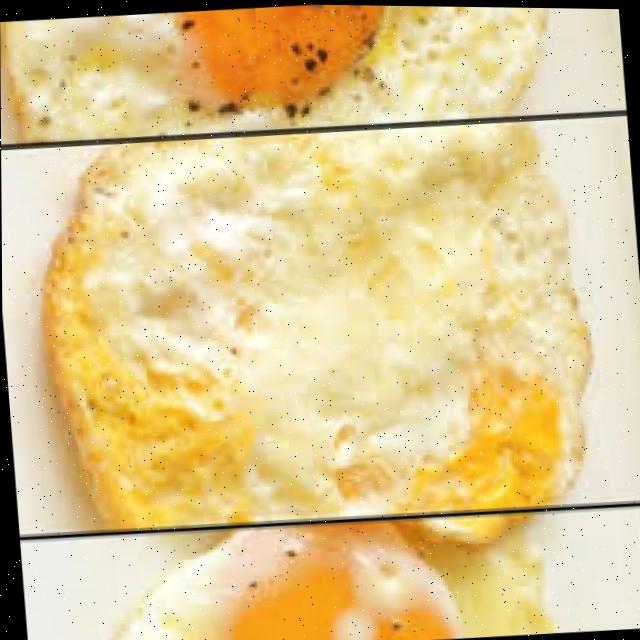Egg: (47, 123, 588, 525), (119, 525, 457, 640)
